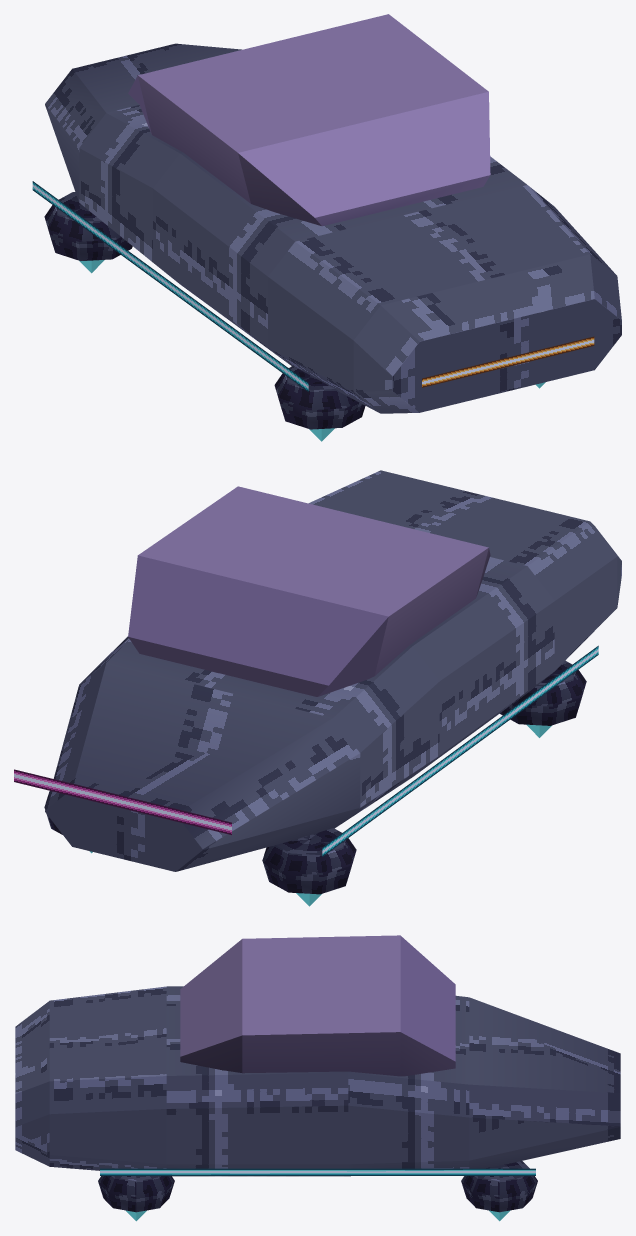
File: cytech.hovercar.glb
The picture shows the model from 3 angles, top to bottom: view 1: azimuth 30°, elevation 25°; view 2: azimuth 150°, elevation 25°; view 3: azimuth 270°, elevation 25°; orthographic projection. The views are drawn at different scales.
Visible parts, largest first — view 1: kit_hull, kit_canopy, kit_pods, kit_card_lights; view 2: kit_hull, kit_canopy, kit_pods, kit_card_lights; view 3: kit_hull, kit_canopy, kit_pods, kit_card_lights.
Boxes of the visible parts, bbox=[...] form: kit_hull: bbox=[45, 43, 621, 413]; kit_canopy: bbox=[128, 14, 490, 226]; kit_pods: bbox=[44, 192, 545, 441]; kit_card_lights: bbox=[32, 181, 594, 391]; kit_hull: bbox=[45, 470, 621, 871]; kit_canopy: bbox=[128, 486, 490, 696]; kit_pods: bbox=[44, 661, 586, 906]; kit_card_lights: bbox=[14, 645, 598, 856]; kit_hull: bbox=[15, 986, 620, 1176]; kit_canopy: bbox=[180, 935, 455, 1076]; kit_pods: bbox=[98, 1161, 537, 1221]; kit_card_lights: bbox=[100, 1168, 535, 1175].
Size of the model in its own units: 2 by 1.57 by 4.42.
4 materials, 3 textured.
